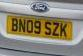9: (34, 20, 41, 34)
B: (11, 18, 18, 32)
K: (60, 22, 68, 37)
N: (19, 18, 26, 33)
O: (26, 19, 33, 34)
S: (44, 21, 52, 36)
Z: (53, 21, 59, 36)
